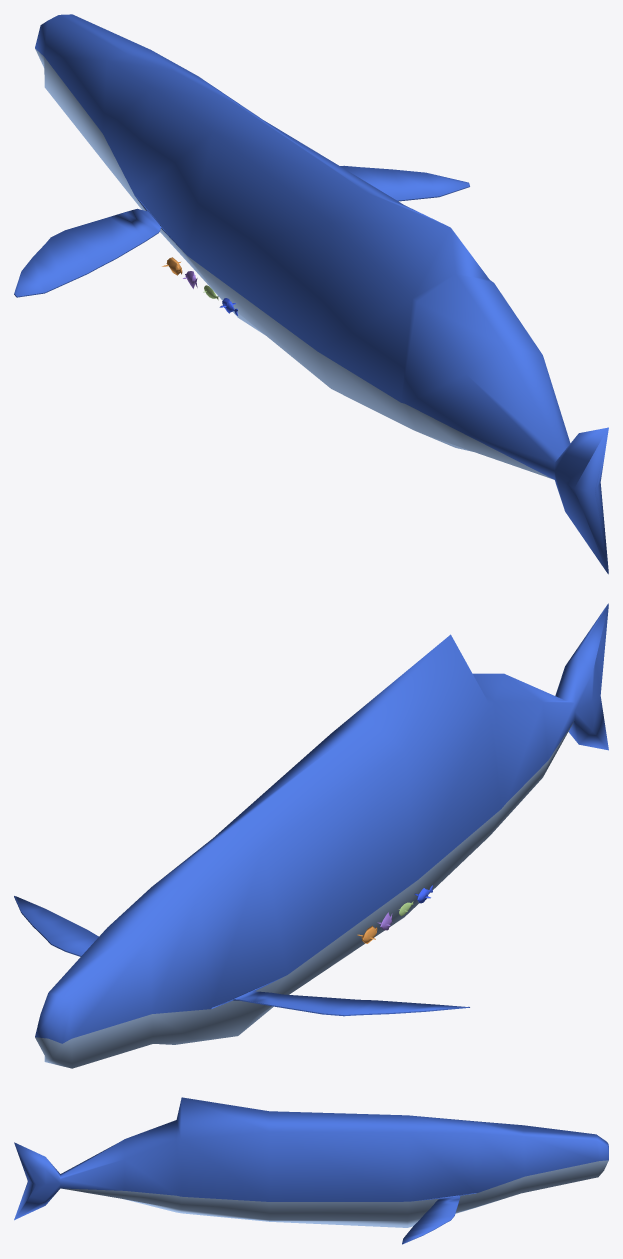
Rendered from LivingFish.fbx.
3 views of the same model, one above another, from view 1: azimuth 30°, elevation 25°; view 2: azimuth 150°, elevation 25°; view 3: azimuth 270°, elevation 25° (orthographic). The views are drawn at different scales.
Visible parts, largest first — view 1: Whale; view 2: Whale; view 3: Whale.
Boxes of the visible parts, x1,y1,x2,y2 form: Whale: [14, 14, 608, 574]; Whale: [14, 603, 608, 1068]; Whale: [14, 1097, 608, 1244].
Bounding box in the file's own units: 9896 × 5114 × 21100.
